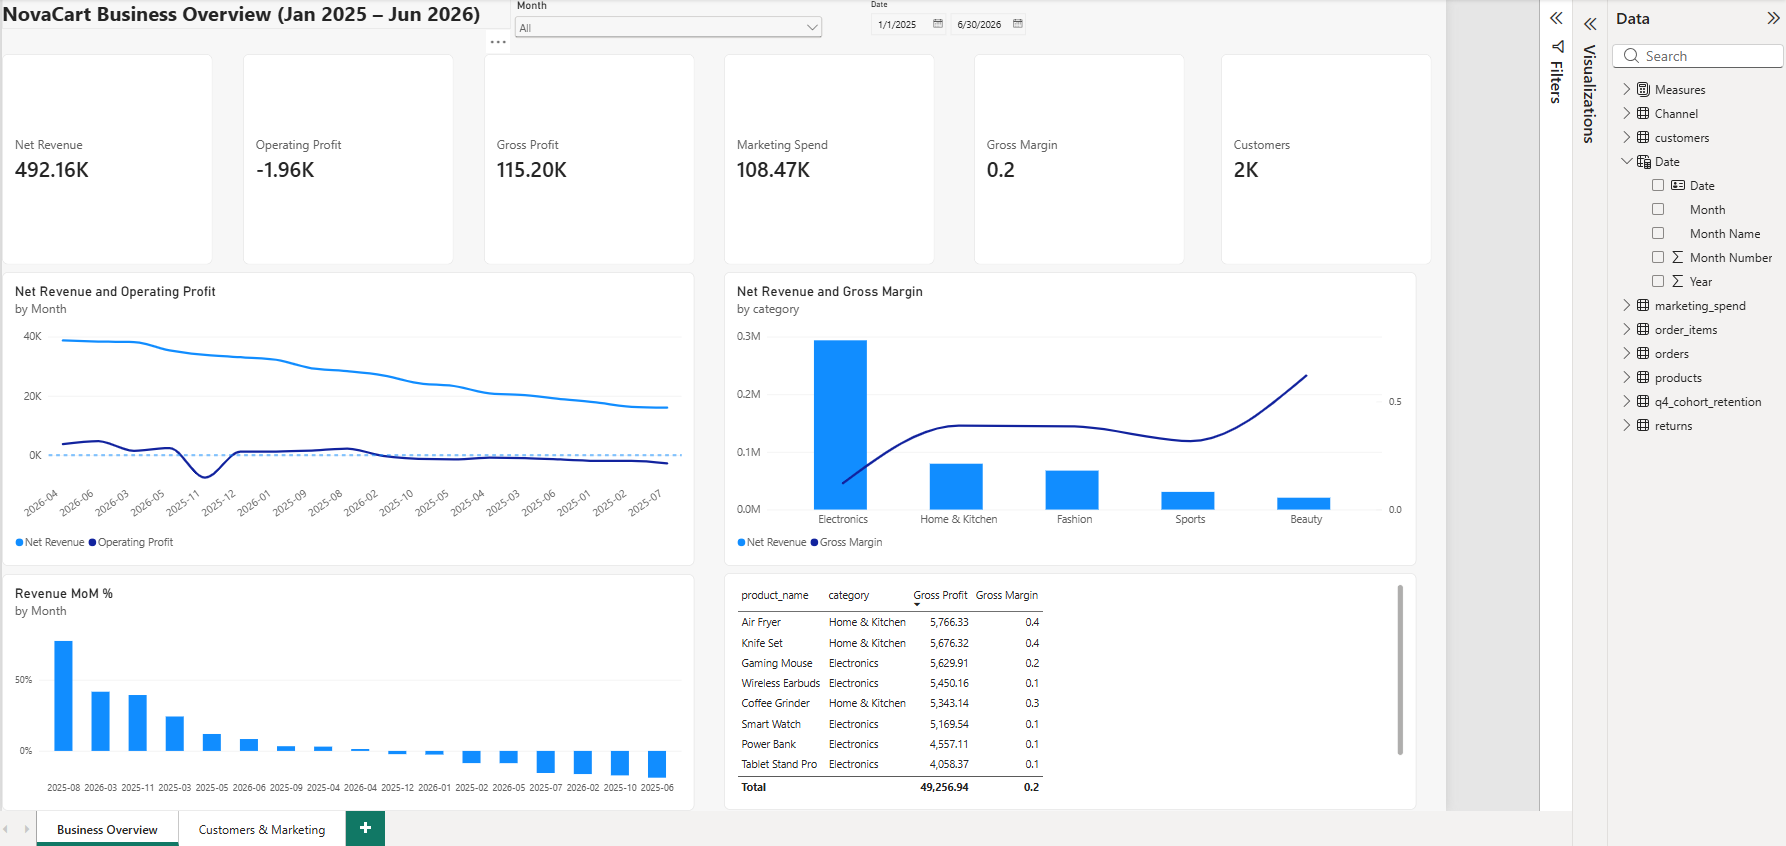

The dashboard page shown, as its layout file describes it:
{"tool":"powerbi","page":{"name":"Business Overview","canvas":[1920,1080],"ordinal":0},"visuals":[{"type":"cardVisual","fields":{"Data":["Measures .Net Revenue","Measures .Net Revenue"]},"box":[0,72.9,280,280],"z":0},{"type":"cardVisual","fields":{"Data":["Measures .Operating Profit"]},"box":[321,72.9,280,280],"z":1000},{"type":"cardVisual","fields":{"Data":["Measures .Gross Profit"]},"box":[640.5,72.9,280,280],"z":2000},{"type":"cardVisual","fields":{"Data":["Measures .Marketing Spend"]},"box":[960,72.9,280,280],"z":3000},{"type":"cardVisual","fields":{"Data":["Measures .Gross Margin"]},"box":[1292.6,72.9,280,280],"z":4000},{"type":"cardVisual","fields":{"Data":["Measures .Customers"]},"box":[1620.9,72.9,280,280],"z":5000},{"type":"textbox","box":[0,0,677,39.4],"z":6000},{"type":"slicer","fields":{"Values":["Date.Month"]},"box":[677,0,418.7,72.9],"z":7000},{"type":"lineChart","fields":{"Category":["Date.Month"],"Y":["Measures .Net Revenue","Measures .Operating Profit"]},"box":[0,363.3,920.6,391],"z":8000},{"type":"lineClusteredColumnComboChart","fields":{"Category":["products.category"],"Y":["Measures .Net Revenue"],"Y2":["Measures .Gross Margin"]},"box":[960,363.3,920.6,391],"z":8001},{"type":"clusteredColumnChart","fields":{"Category":["Date.Month"],"Y":["Measures .Revenue MoM %"]},"box":[0,764.5,920.6,315.1],"z":8002},{"type":"tableEx","fields":{"Values":["products.product_name","products.category","Measures .Gross Profit","Measures .Gross Margin"]},"box":[960,764,921,315],"z":8003},{"type":"slicer","fields":{"Values":["Date.Date"]},"box":[1147.8,0,732.9,59.9],"z":8004}]}

Visuals, with their boxes on the page's 1920x1080 design canvas (x1, y1, x2, y2). These are canvas units, not pixel positions in the 1786x846 screenshot, which may show the page scaled, cropped or inside an application window:
cardVisual - Measures .Net Revenue x Measures .Net Revenue: {"x1": 0, "y1": 73, "x2": 280, "y2": 353}
cardVisual - Measures .Operating Profit: {"x1": 321, "y1": 73, "x2": 601, "y2": 353}
cardVisual - Measures .Gross Profit: {"x1": 640, "y1": 73, "x2": 920, "y2": 353}
cardVisual - Measures .Marketing Spend: {"x1": 960, "y1": 73, "x2": 1240, "y2": 353}
cardVisual - Measures .Gross Margin: {"x1": 1293, "y1": 73, "x2": 1573, "y2": 353}
cardVisual - Measures .Customers: {"x1": 1621, "y1": 73, "x2": 1901, "y2": 353}
textbox: {"x1": 0, "y1": 0, "x2": 677, "y2": 39}
slicer - Date.Month: {"x1": 677, "y1": 0, "x2": 1096, "y2": 73}
lineChart - Date.Month x Measures .Net Revenue: {"x1": 0, "y1": 363, "x2": 921, "y2": 754}
lineClusteredColumnComboChart - products.category x Measures .Net Revenue: {"x1": 960, "y1": 363, "x2": 1881, "y2": 754}
clusteredColumnChart - Date.Month x Measures .Revenue MoM %: {"x1": 0, "y1": 764, "x2": 921, "y2": 1080}
tableEx - products.product_name x products.category: {"x1": 960, "y1": 764, "x2": 1881, "y2": 1079}
slicer - Date.Date: {"x1": 1148, "y1": 0, "x2": 1881, "y2": 60}
